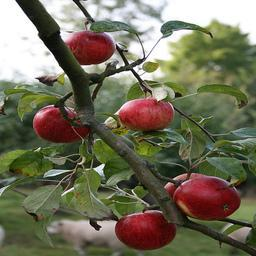apple: (172, 176, 241, 220), (113, 210, 176, 250), (33, 104, 90, 143), (117, 97, 174, 132), (64, 30, 116, 65)
